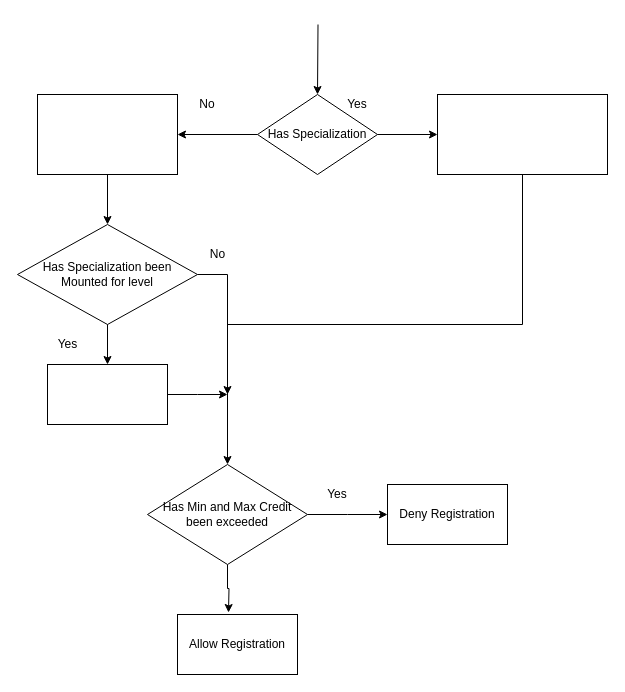
This 625x692 diagram has some shape labels left out. Here are the shapes that lost their labels. From the top down, the centre of each, then its label:
At (107,134): "Hide dropdown and Display General (Core/Elective) courses".
At (522,134): "Display Specilization for student in a Label and display related courses".
At (107,394): "Display specialization in drown".
